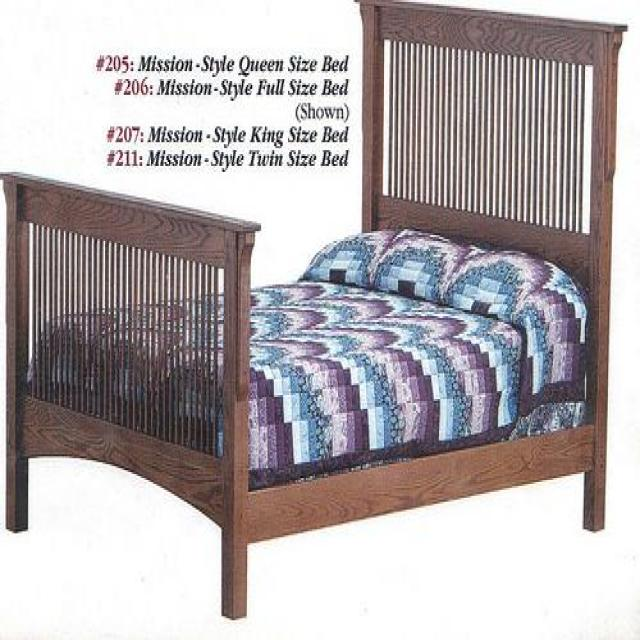bed: (0, 0, 627, 618)
